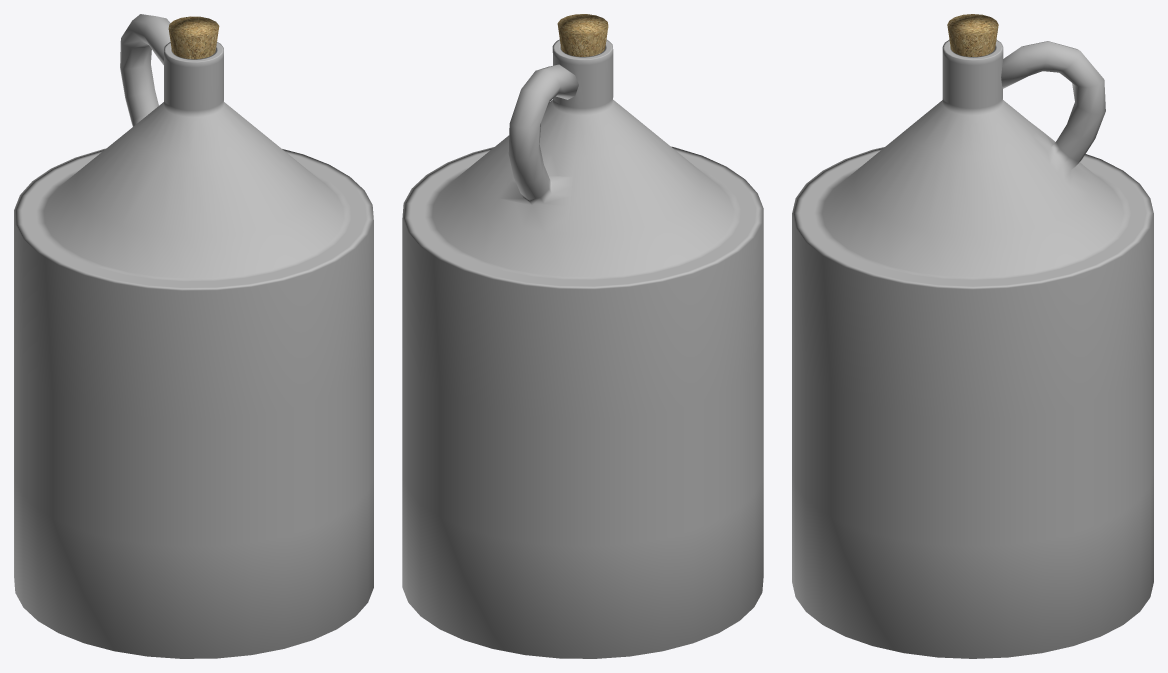
The model's file is Week8-Assignment1.fbx.
3 views of the same model, side by side, from view 1: azimuth 30°, elevation 25°; view 2: azimuth 150°, elevation 25°; view 3: azimuth 270°, elevation 25° (orthographic).
Visible parts, largest first — view 1: Old_Bottle, Cork; view 2: Old_Bottle, Cork; view 3: Old_Bottle, Cork.
Part boxes in pixels (box(x1,y1,x2,y2)): Old_Bottle: box(14, 14, 373, 658); Cork: box(168, 16, 219, 59); Old_Bottle: box(402, 39, 763, 658); Cork: box(557, 14, 608, 56); Old_Bottle: box(792, 39, 1153, 658); Cork: box(947, 14, 998, 56).
Bounding box in the file's own units: 11.88 × 20.21 × 11.88.
